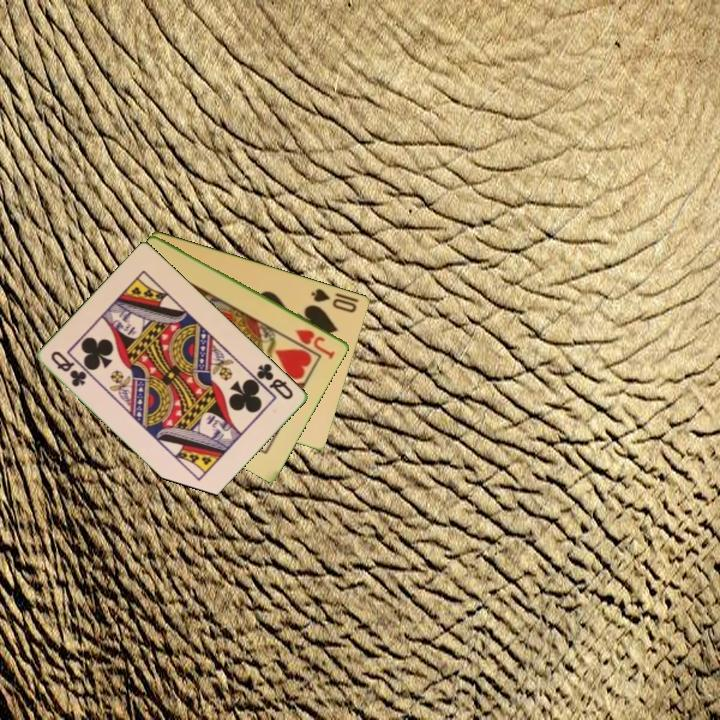10s: (308, 285, 360, 316)
Jh: (292, 325, 338, 362)
Qc: (253, 359, 296, 403), (47, 347, 90, 390)
